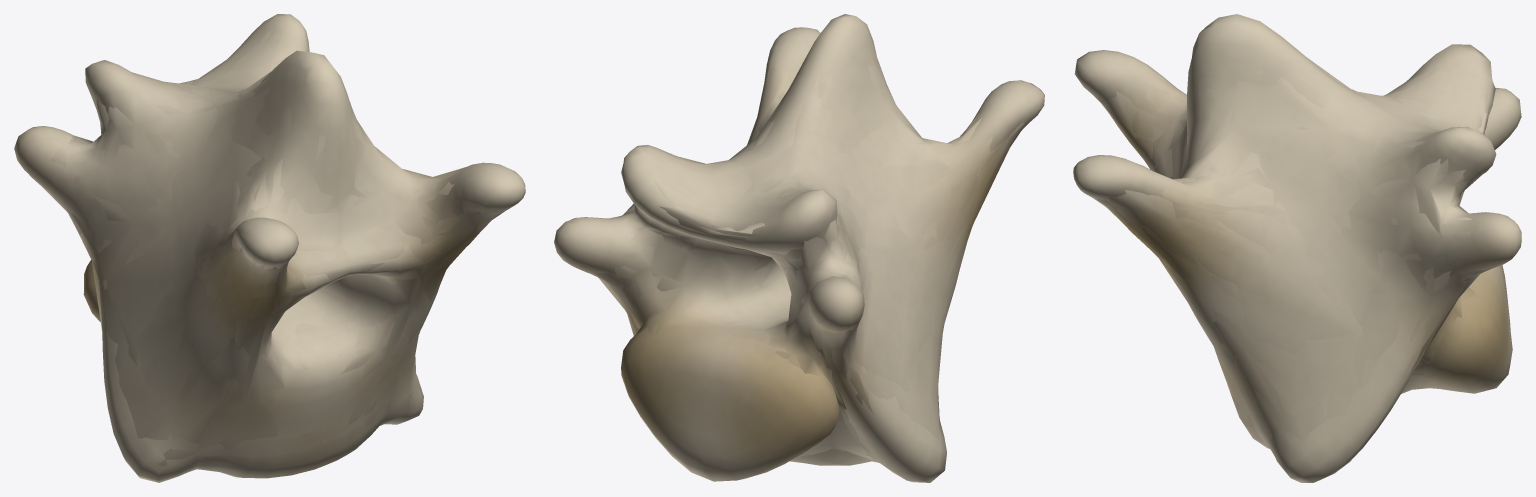
File: vertebrae lumbales 1.fbx
The picture shows the model from 3 angles, left to right: view 1: azimuth 30°, elevation 25°; view 2: azimuth 150°, elevation 25°; view 3: azimuth 270°, elevation 25°; orthographic projection. The views are drawn at different scales.
Parts seen in each view (by area): view 1: vertebrae lumbales 1 high, vertebrae lumbales 1 low, vertebrae lumbales 1; view 2: vertebrae lumbales 1 high, vertebrae lumbales 1 low, vertebrae lumbales 1; view 3: vertebrae lumbales 1 high, vertebrae lumbales 1 low, vertebrae lumbales 1.
Boxes of the visible parts, x1,y1,x2,y2 form: vertebrae lumbales 1 high: (14,14,525,482); vertebrae lumbales 1 low: (52,42,464,472); vertebrae lumbales 1: (26,31,505,470); vertebrae lumbales 1 high: (554,14,1044,482); vertebrae lumbales 1 low: (593,75,1025,460); vertebrae lumbales 1: (592,64,1028,462); vertebrae lumbales 1 high: (1073,14,1521,482); vertebrae lumbales 1 low: (1107,45,1490,439); vertebrae lumbales 1: (1091,53,1496,455).
Size of the model in its own units: 5.82 by 7.73 by 7.54.
1 material, 1 textured.
